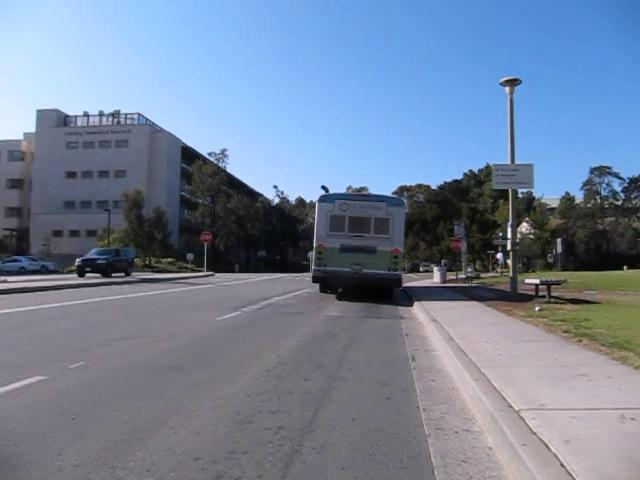stop: (199, 229, 213, 244)
